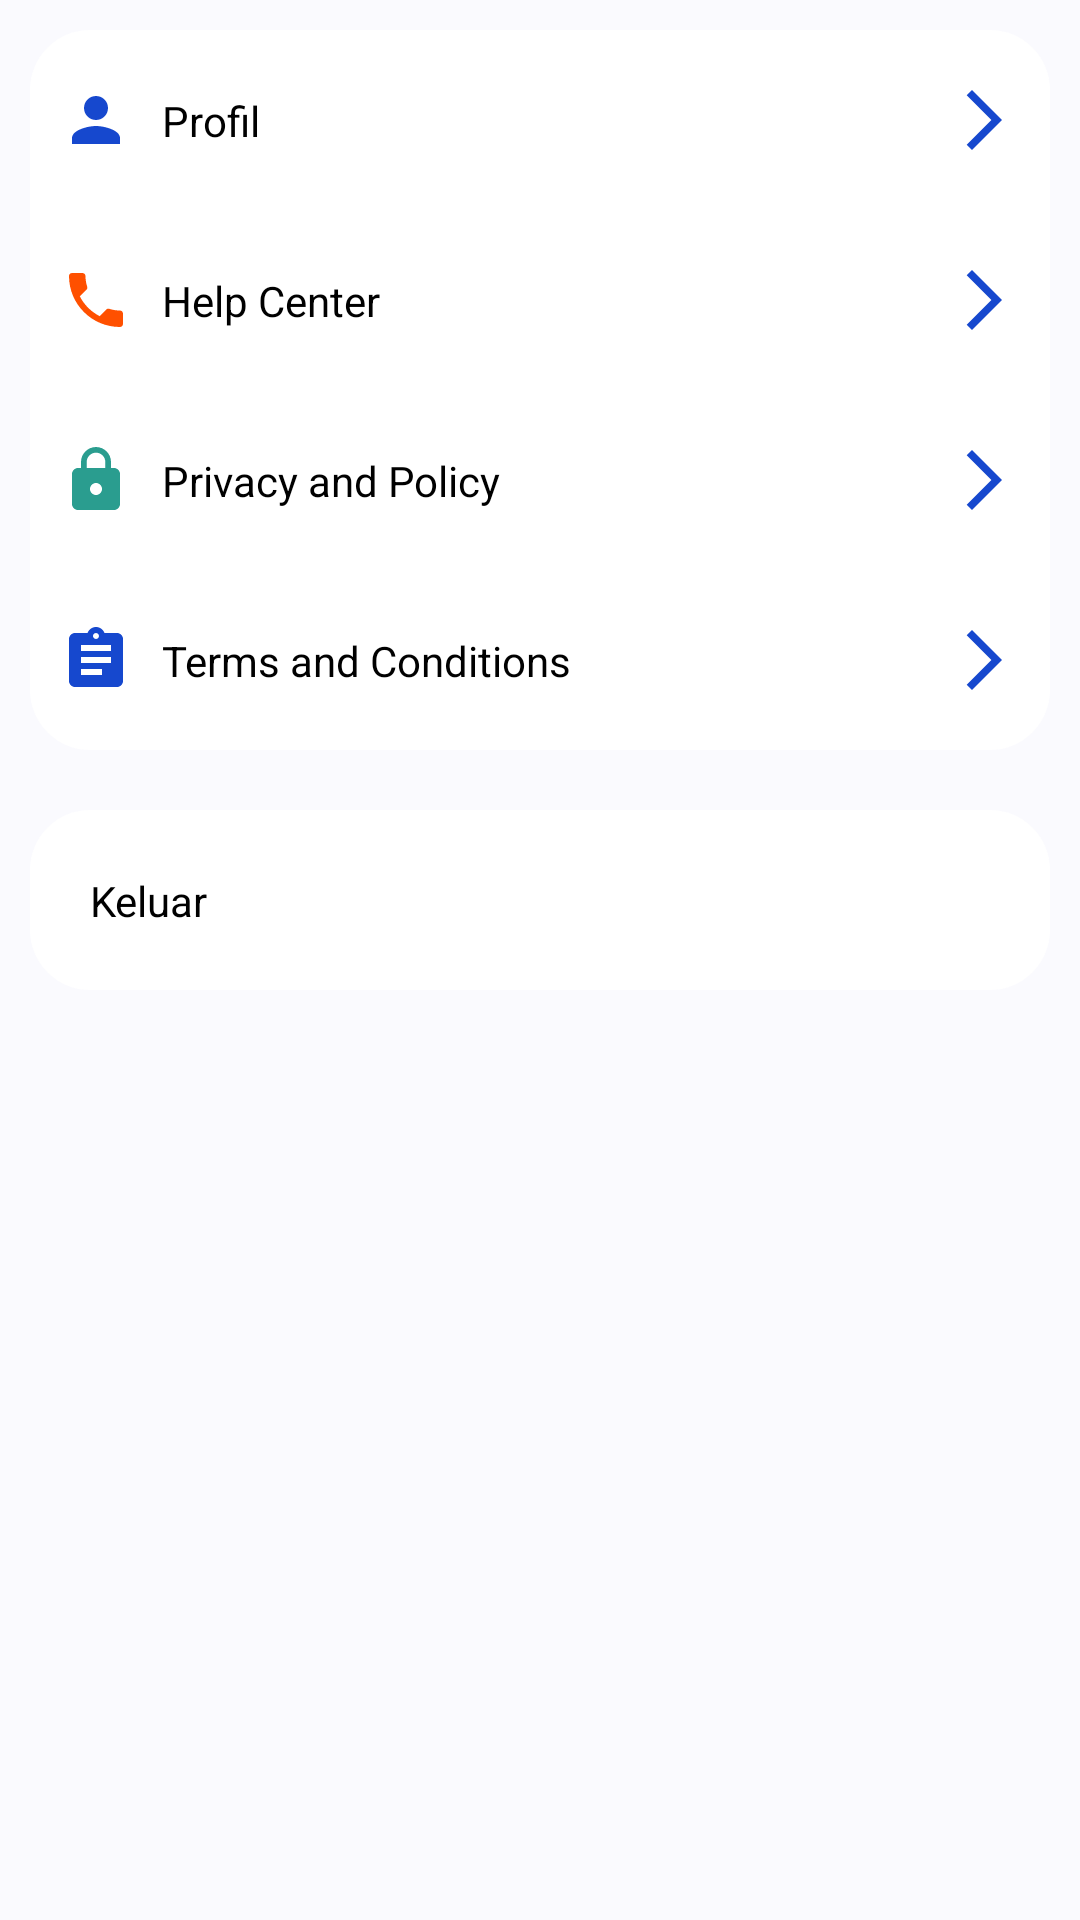

Screen size 1080w x 1920h. Icon name, then its box in pixels as box=[x1, y1, x2, y2]:
arrow right: box=[967, 90, 1002, 150], box=[967, 270, 1002, 330], box=[967, 450, 1002, 510], box=[967, 630, 1002, 690]
lock: box=[72, 447, 120, 510]
person: box=[72, 96, 120, 144]
phone: box=[69, 273, 123, 327]
